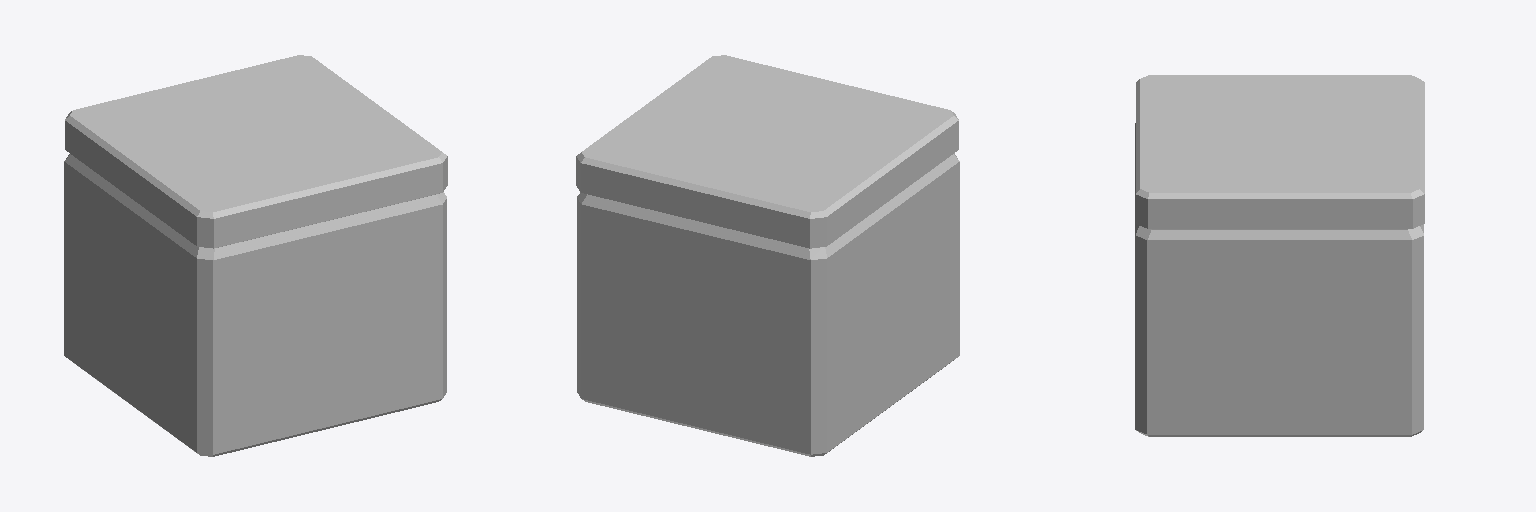
The model's file is boxBig.obj.
3 views of the same model, side by side, from view 1: azimuth 30°, elevation 25°; view 2: azimuth 150°, elevation 25°; view 3: azimuth 270°, elevation 25° (orthographic).
Parts seen in each view (by area): view 1: big_box; view 2: big_box; view 3: big_box.
Boxes of the visible parts, <box> form: big_box: <box>64,55,447,456</box>; big_box: <box>576,55,959,456</box>; big_box: <box>1135,75,1424,436</box>.
Bounding box in the file's own units: 1.2 × 1.11 × 1.2.